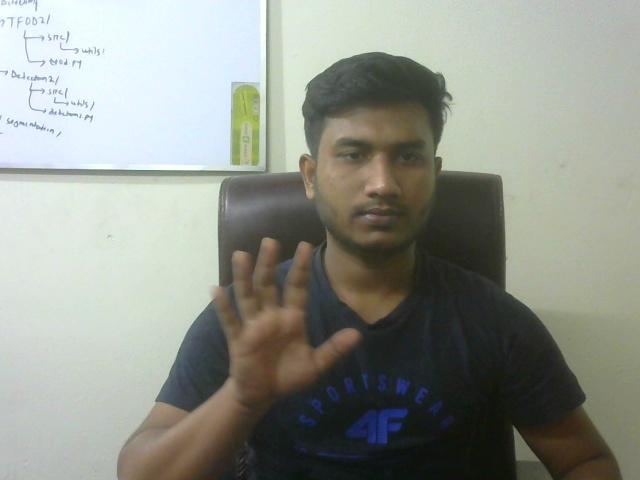Hello: (194, 233, 373, 421)
